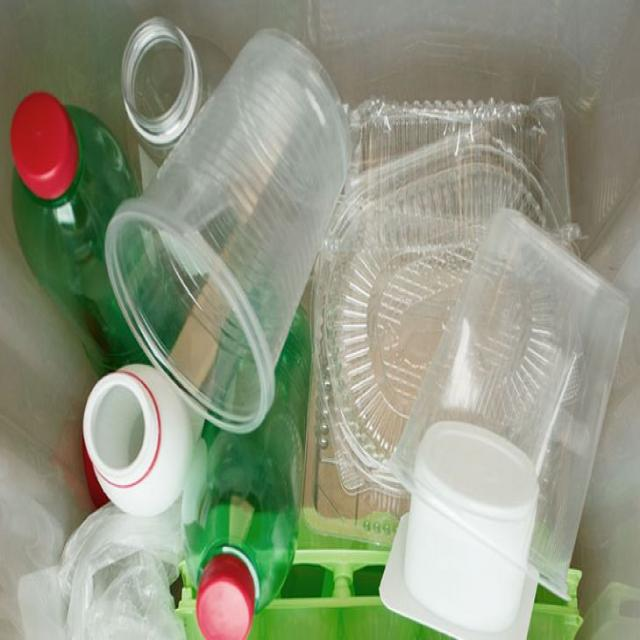dry: (102, 15, 366, 445), (185, 291, 335, 640), (3, 89, 177, 360)
